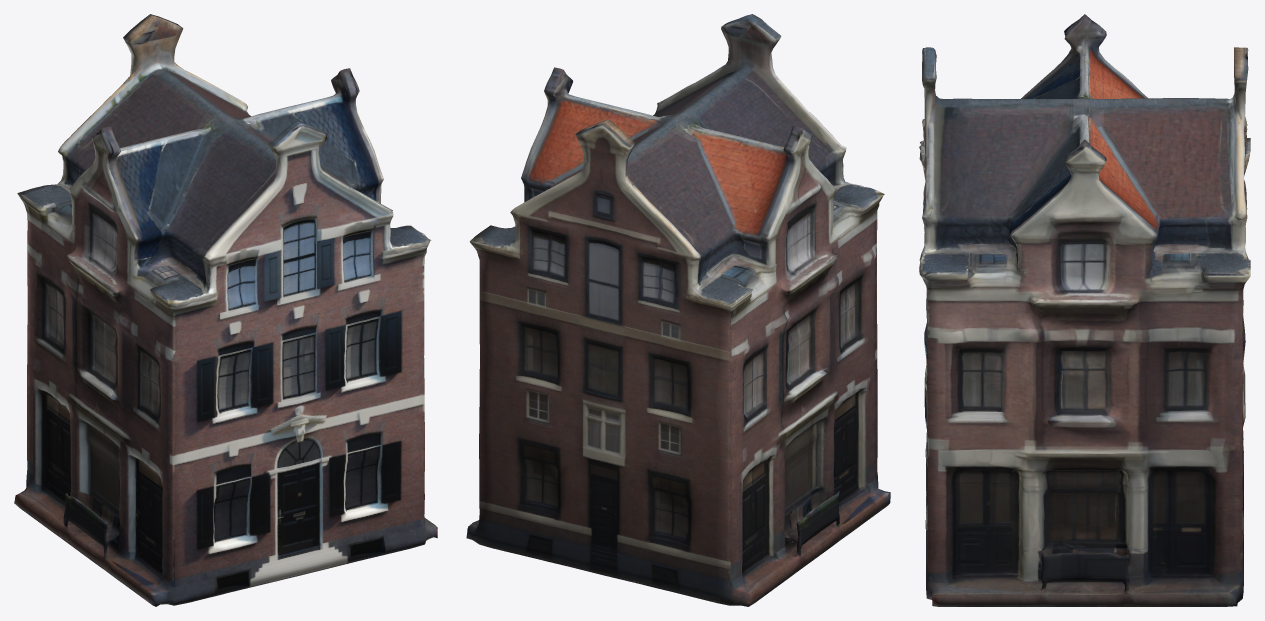
File: AmsterdamHouse.glb
3 renders of one model, left to right at view 1: azimuth 30°, elevation 25°; view 2: azimuth 150°, elevation 25°; view 3: azimuth 270°, elevation 25°, orthographic. The views are drawn at different scales.
Visible parts, largest first — view 1: AmsterdamHouse; view 2: AmsterdamHouse; view 3: AmsterdamHouse.
Part boxes in pixels (bbox=[...]): AmsterdamHouse: bbox=[14, 14, 437, 606]; AmsterdamHouse: bbox=[466, 14, 890, 606]; AmsterdamHouse: bbox=[919, 14, 1250, 606].
Size of the model in its own units: 1.31 by 2 by 1.24.
Materials: 1 (1 with a texture image).
